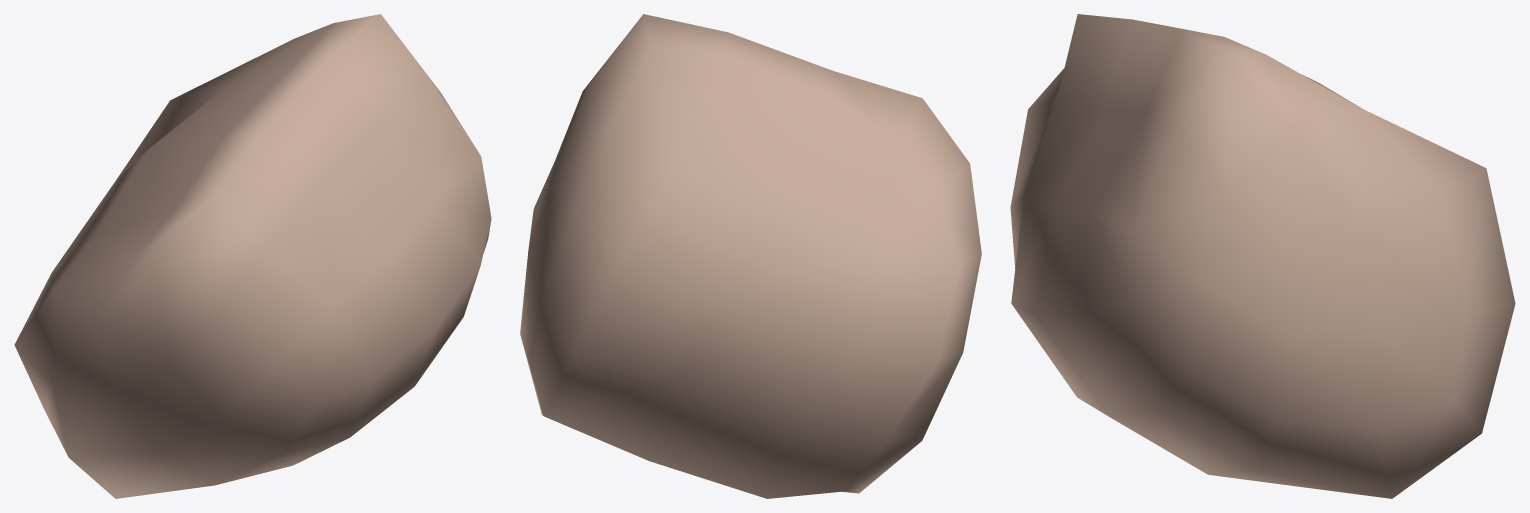
Rendered from object_GEO-pebble_002.glb.
The picture shows the model from 3 angles, left to right: view 1: azimuth 30°, elevation 25°; view 2: azimuth 150°, elevation 25°; view 3: azimuth 270°, elevation 25°; orthographic projection. The views are drawn at different scales.
Parts seen in each view (by area): view 1: GEO-pebble.002; view 2: GEO-pebble.002; view 3: GEO-pebble.002.
Part boxes in pixels (x1=…): GEO-pebble.002: x1=14, y1=14, x2=491, y2=498; GEO-pebble.002: x1=520, y1=14, x2=981, y2=498; GEO-pebble.002: x1=1010, y1=14, x2=1515, y2=498.
Bounding box in the file's own units: 0.0551 × 0.0537 × 0.0494.
